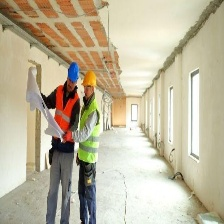helmet: (68, 60, 79, 86), (83, 71, 97, 88)
person: (45, 61, 81, 224), (79, 69, 101, 224)
vest: (82, 102, 100, 170), (56, 84, 72, 150)
